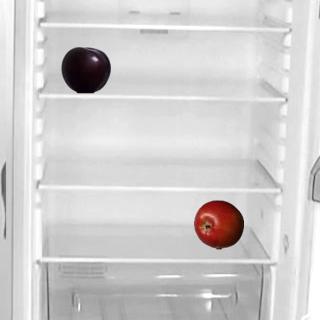Apple Braeburn: (193, 199, 243, 249)
Cherry Wax Black: (60, 44, 110, 94)
